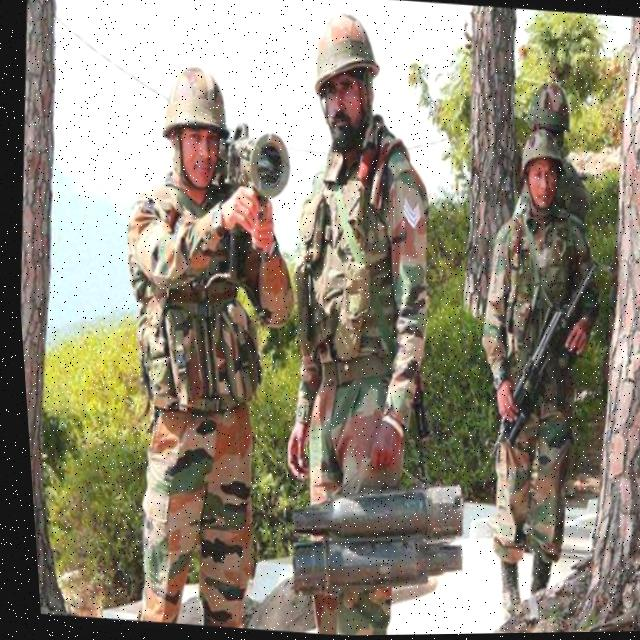rocket: (272, 462, 465, 607)
